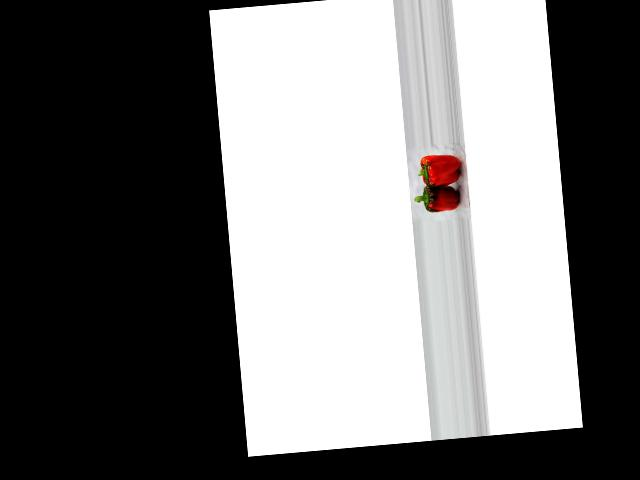bell_pepper: (413, 147, 462, 187)
